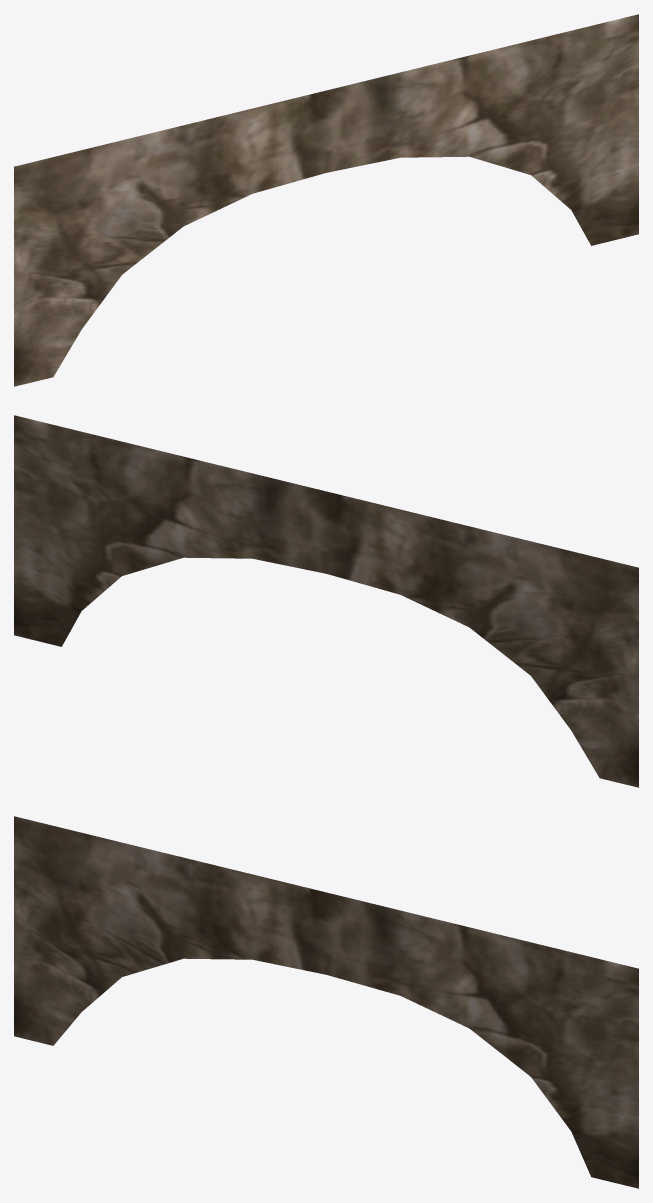
Rendered from EKH_THRONE_PS_TH_EN_LINE15.fbx.
3 renders of one model, top to bottom at view 1: azimuth 30°, elevation 25°; view 2: azimuth 150°, elevation 25°; view 3: azimuth 330°, elevation 25°, orthographic.
Visible parts, largest first — view 1: EKH_THRONE_PS_TH_EN_LINE15; view 2: EKH_THRONE_PS_TH_EN_LINE15; view 3: EKH_THRONE_PS_TH_EN_LINE15.
Boxes of the visible parts, x1,y1,x2,y2 form: EKH_THRONE_PS_TH_EN_LINE15: (14, 14, 638, 386); EKH_THRONE_PS_TH_EN_LINE15: (14, 415, 638, 787); EKH_THRONE_PS_TH_EN_LINE15: (14, 816, 638, 1188).
Size of the model in its own units: 50500 by 16998 by 0.00277.
Materials: 1 (1 with a texture image).
